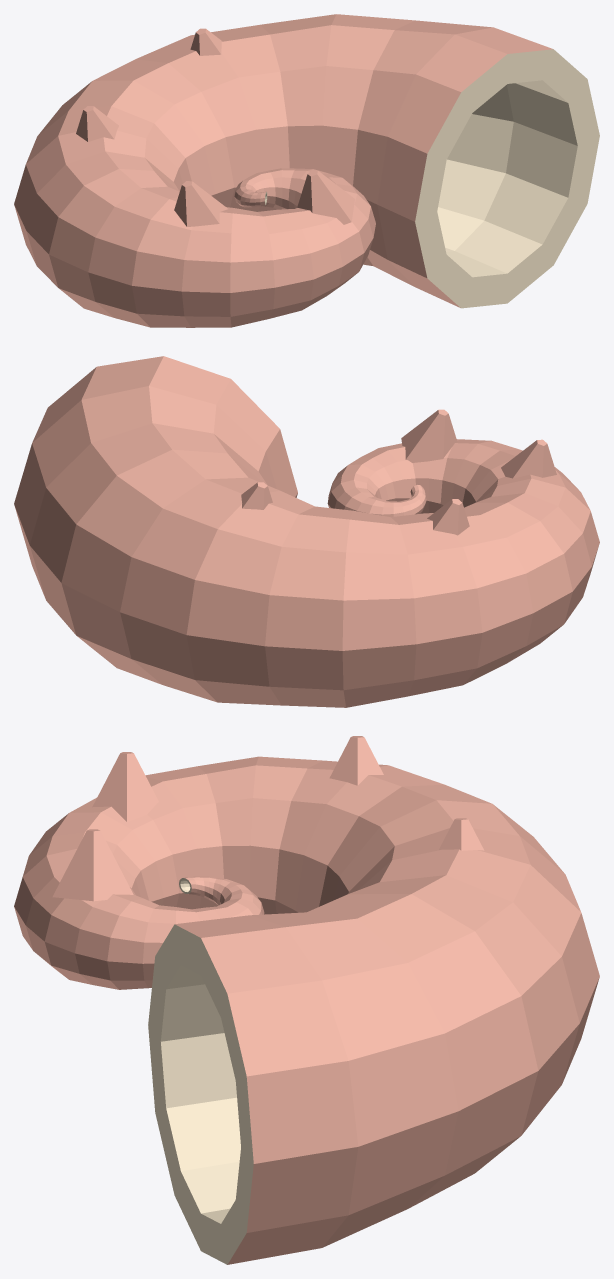
The model's file is seashell.glb.
3 views of the same model, one above another, from view 1: azimuth 30°, elevation 25°; view 2: azimuth 150°, elevation 25°; view 3: azimuth 270°, elevation 25° (orthographic). The views are drawn at different scales.
Parts seen in each view (by area): view 1: Peach spiral conch with open cream lip, Conch crown nodule, Conch crown nodule.001, Conch crown nodule.002, Conch crown nodule.003; view 2: Peach spiral conch with open cream lip, Conch crown nodule, Conch crown nodule.001, Conch crown nodule.002, Conch crown nodule.003; view 3: Peach spiral conch with open cream lip, Conch crown nodule, Conch crown nodule.001, Conch crown nodule.002, Conch crown nodule.003.
Part boxes in pixels (x1,y1,x2,y2): Peach spiral conch with open cream lip: (14,14,599,327); Conch crown nodule: (297,170,354,224); Conch crown nodule.001: (174,181,227,226); Conch crown nodule.002: (76,106,118,141); Conch crown nodule.003: (190,28,222,55); Peach spiral conch with open cream lip: (14,356,599,707); Conch crown nodule: (401,409,457,462); Conch crown nodule.001: (501,439,556,478); Conch crown nodule.002: (427,499,469,535); Conch crown nodule.003: (241,482,272,509); Peach spiral conch with open cream lip: (14,756,599,1264); Conch crown nodule: (52,829,133,901); Conch crown nodule.001: (92,752,158,821); Conch crown nodule.002: (329,736,383,785); Conch crown nodule.003: (439,818,484,850).
Bounding box in the file's own units: 1.64 × 0.716 × 1.21.
